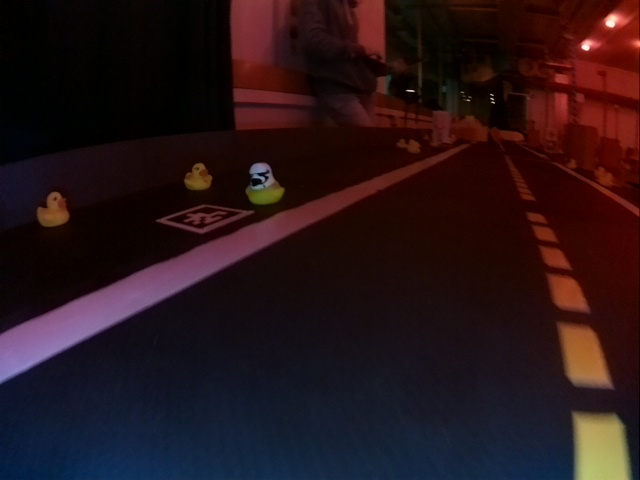Duckie: (247, 163, 283, 204), (36, 193, 69, 224), (186, 164, 211, 189)
QR code: (157, 204, 253, 234)
